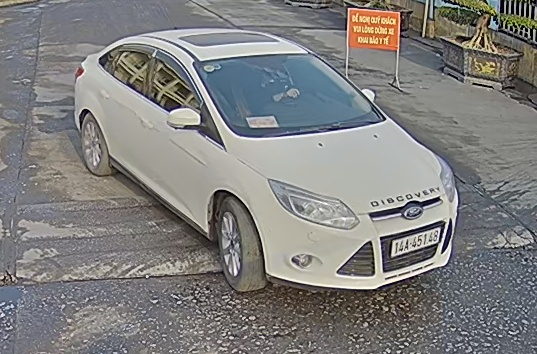vehicle plate: (388, 226, 443, 260)
